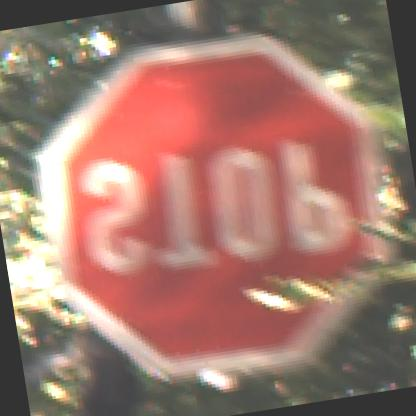stop: (16, 17, 394, 386)
